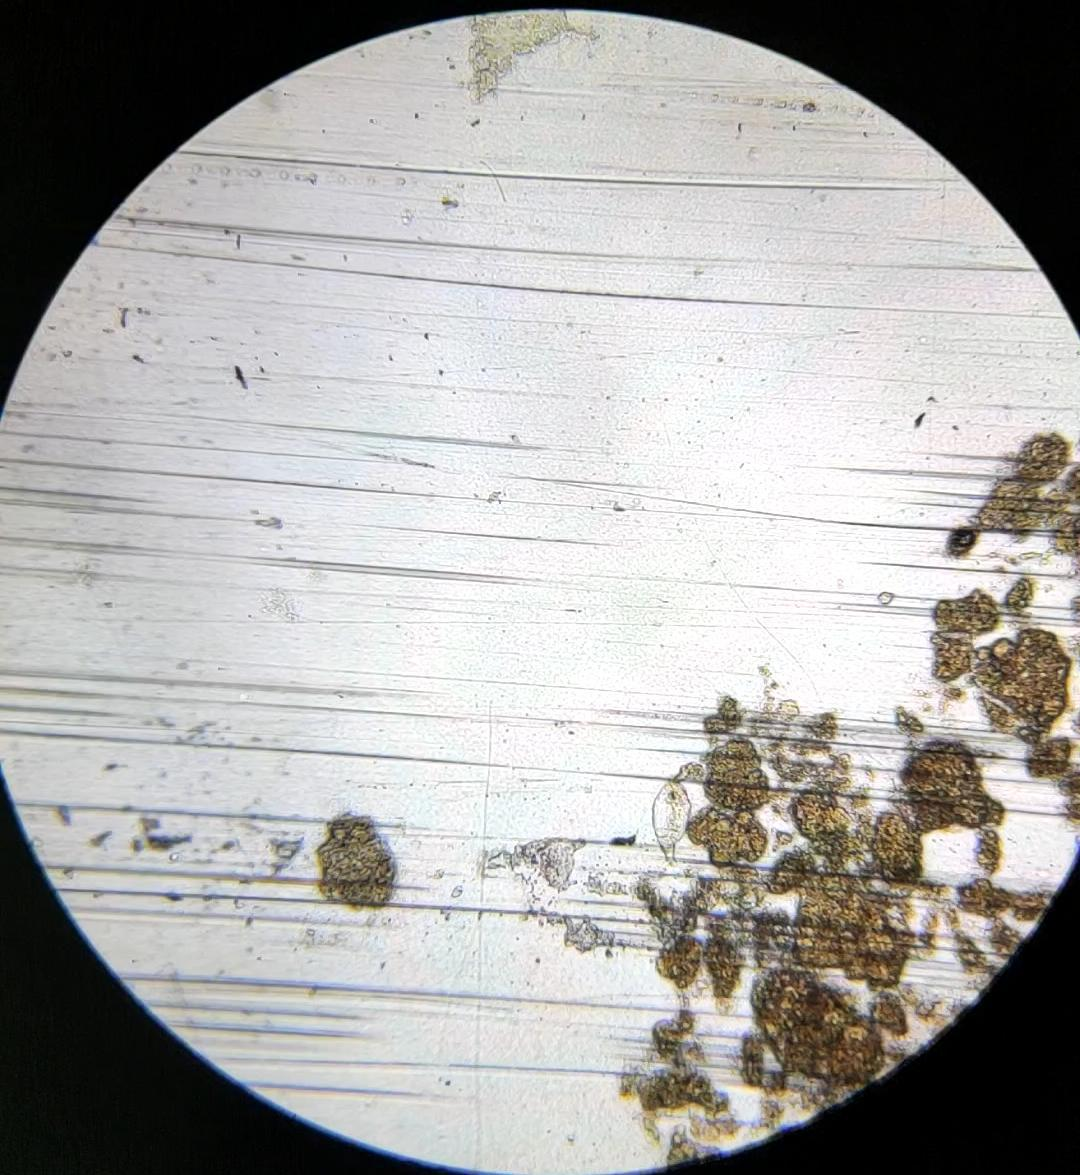Do: (653, 777, 689, 866)
